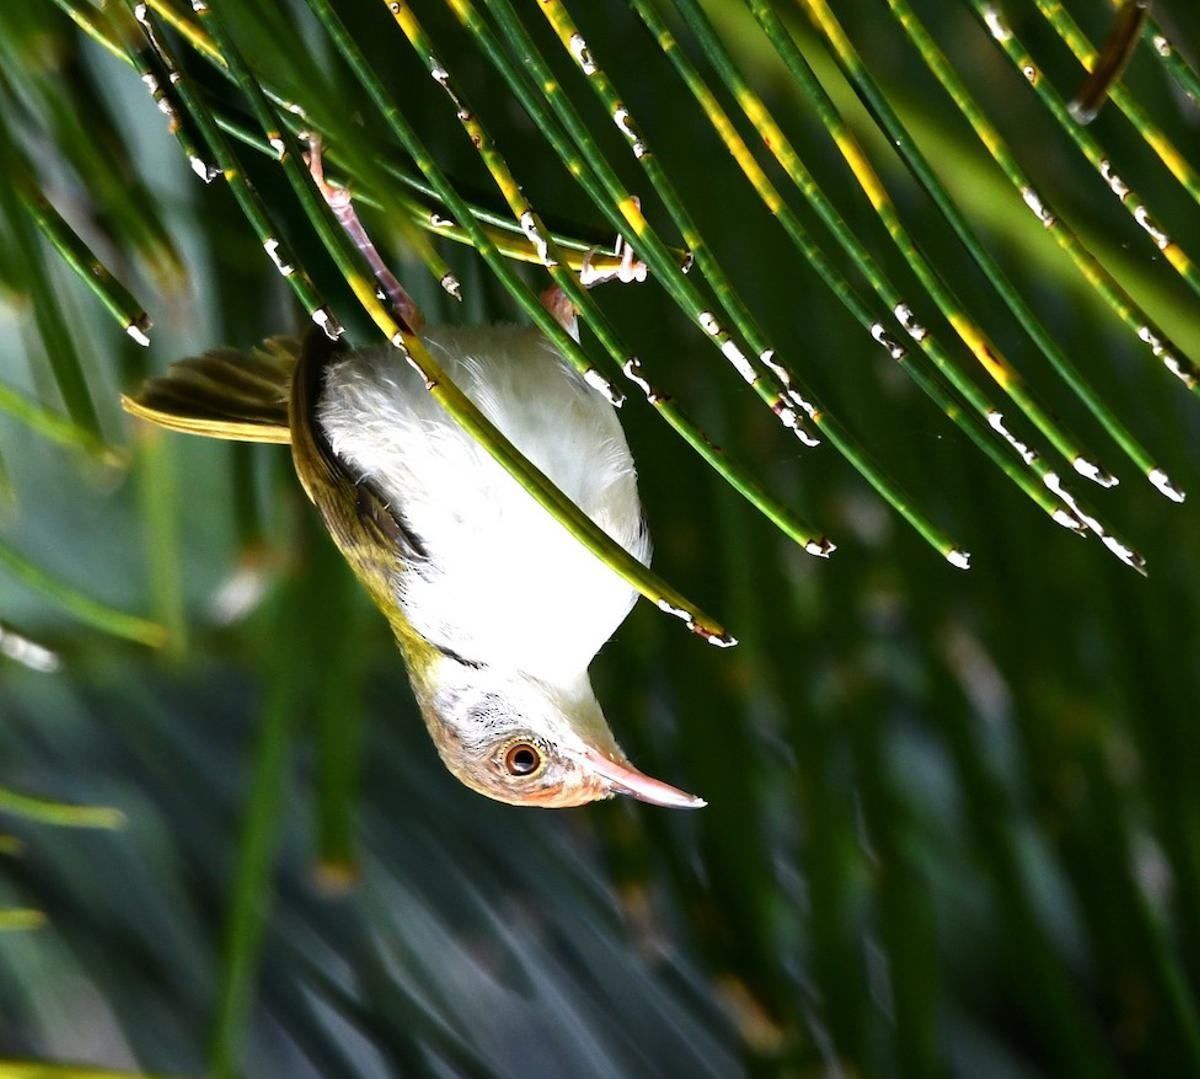tailorbird: (205, 283, 725, 874)
